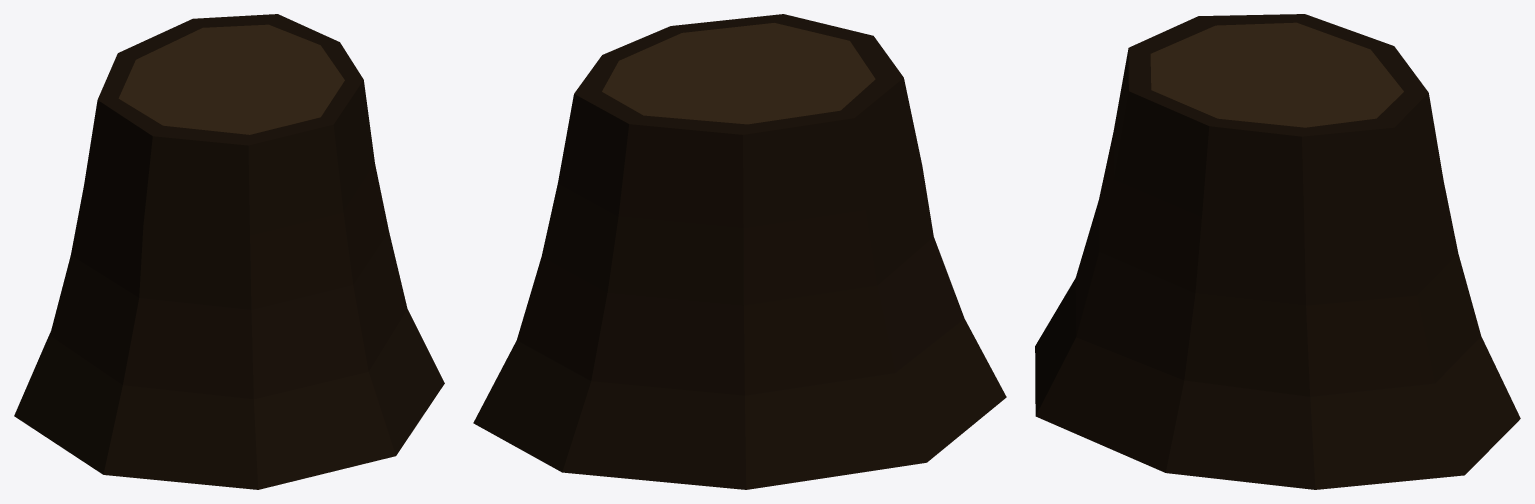
Rendered from LogSeat_FBX.fbx.
3 renders of one model, left to right at view 1: azimuth 30°, elevation 25°; view 2: azimuth 150°, elevation 25°; view 3: azimuth 270°, elevation 25°, orthographic. The views are drawn at different scales.
Parts seen in each view (by area): view 1: LOG SEAT; view 2: LOG SEAT; view 3: LOG SEAT.
Part boxes in pixels (box(x1,y1,x2,y2)): LOG SEAT: box(14, 14, 444, 489); LOG SEAT: box(473, 14, 1006, 489); LOG SEAT: box(1035, 14, 1520, 489).
Size of the model in its own units: 50.63 by 37.6 by 52.35.
